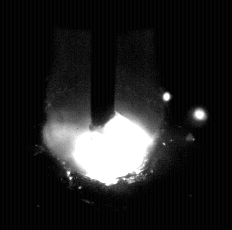arame: (91, 0, 116, 126)
poca: (42, 0, 161, 230)
